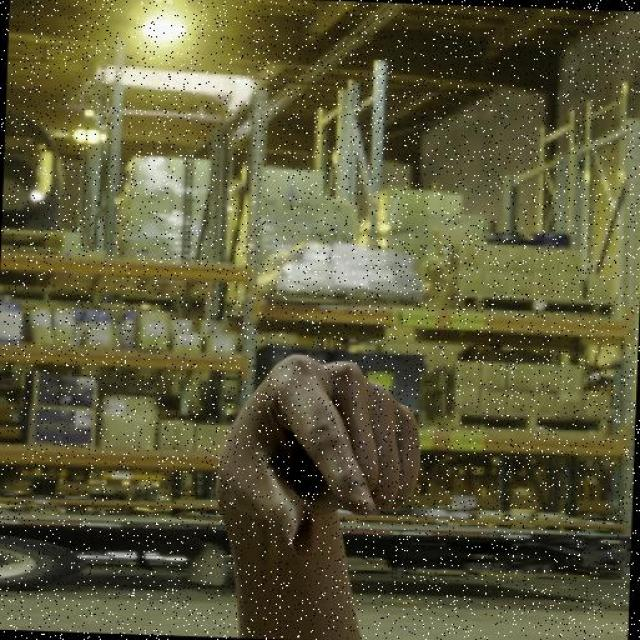Q: (209, 346, 433, 566)
